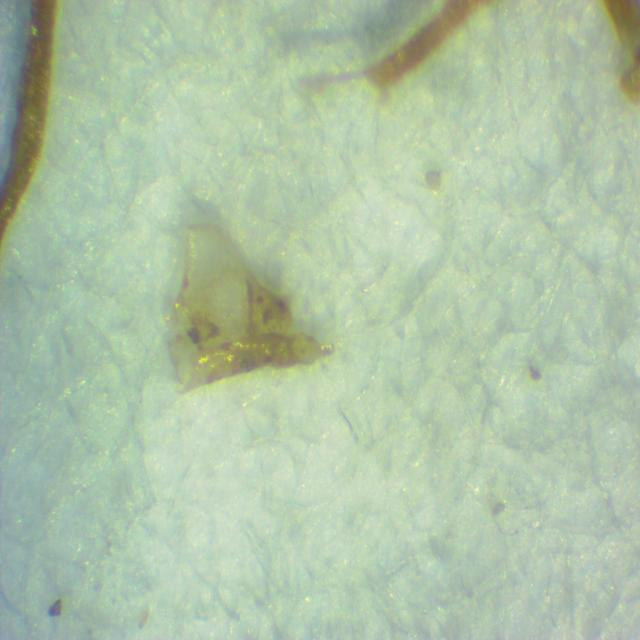microplastic: (167, 222, 337, 392)
